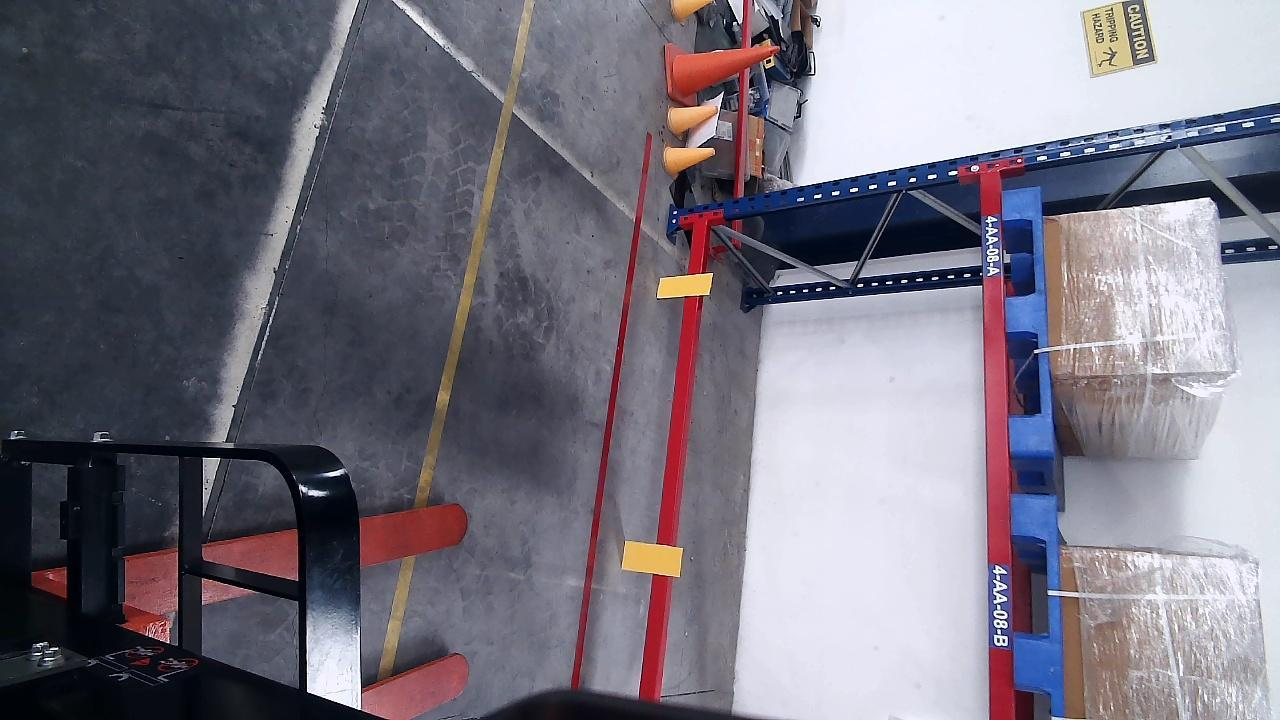h_rack: (639, 219, 710, 698), (978, 173, 1015, 719)
orange_strip: (621, 538, 687, 577), (656, 276, 712, 301)
red_line: (570, 133, 652, 685)
small_pallet: (1009, 494, 1068, 718), (1001, 189, 1048, 451)
yellow_line: (412, 0, 534, 508)
